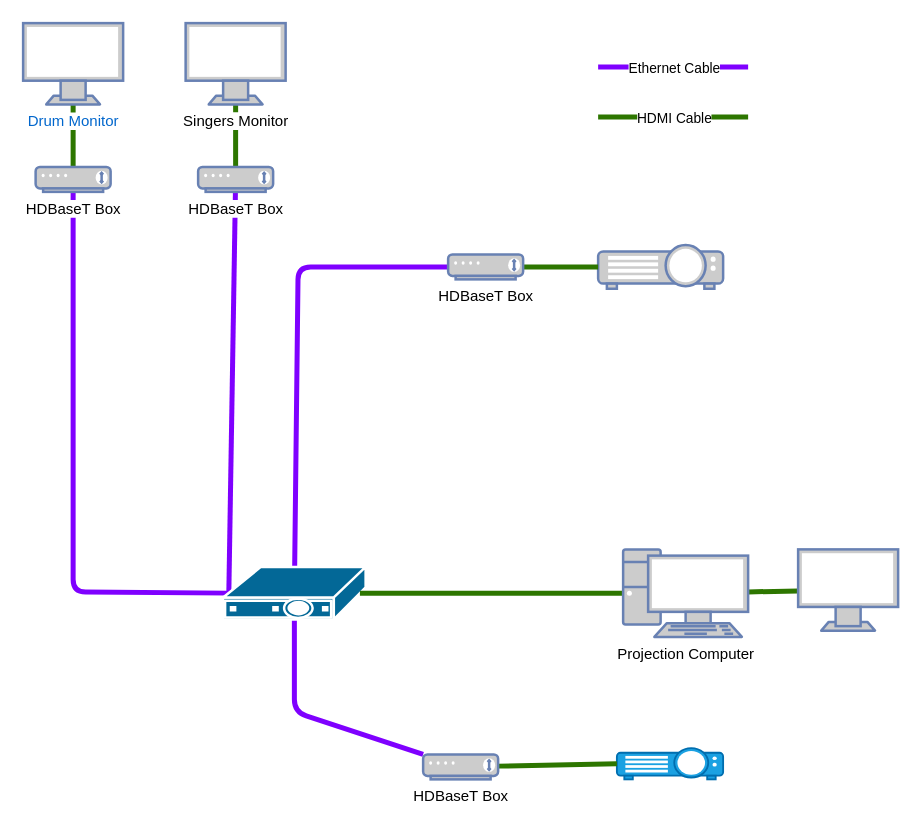
Some shapes in this 920 by 826 pixel diagram are drawn without their labels. Here are the shapes that lost their labels. From the top down, the box of each, then its label:
(596, 243, 724, 289): Main Projector
(221, 565, 366, 620): HDBaseT Splitter
(796, 548, 899, 631): Second Screen
(615, 746, 724, 780): Foyer Projector
